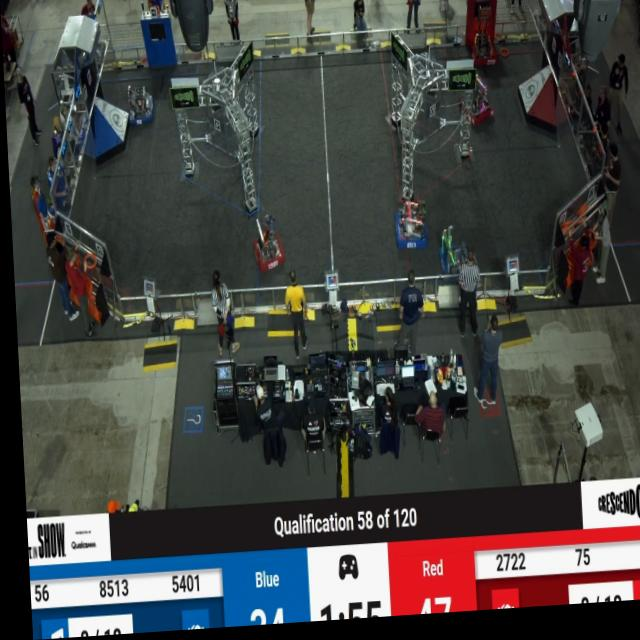Robot: (389, 151, 426, 259), (465, 1, 501, 79), (249, 215, 283, 278), (459, 74, 493, 135), (124, 82, 156, 130)
